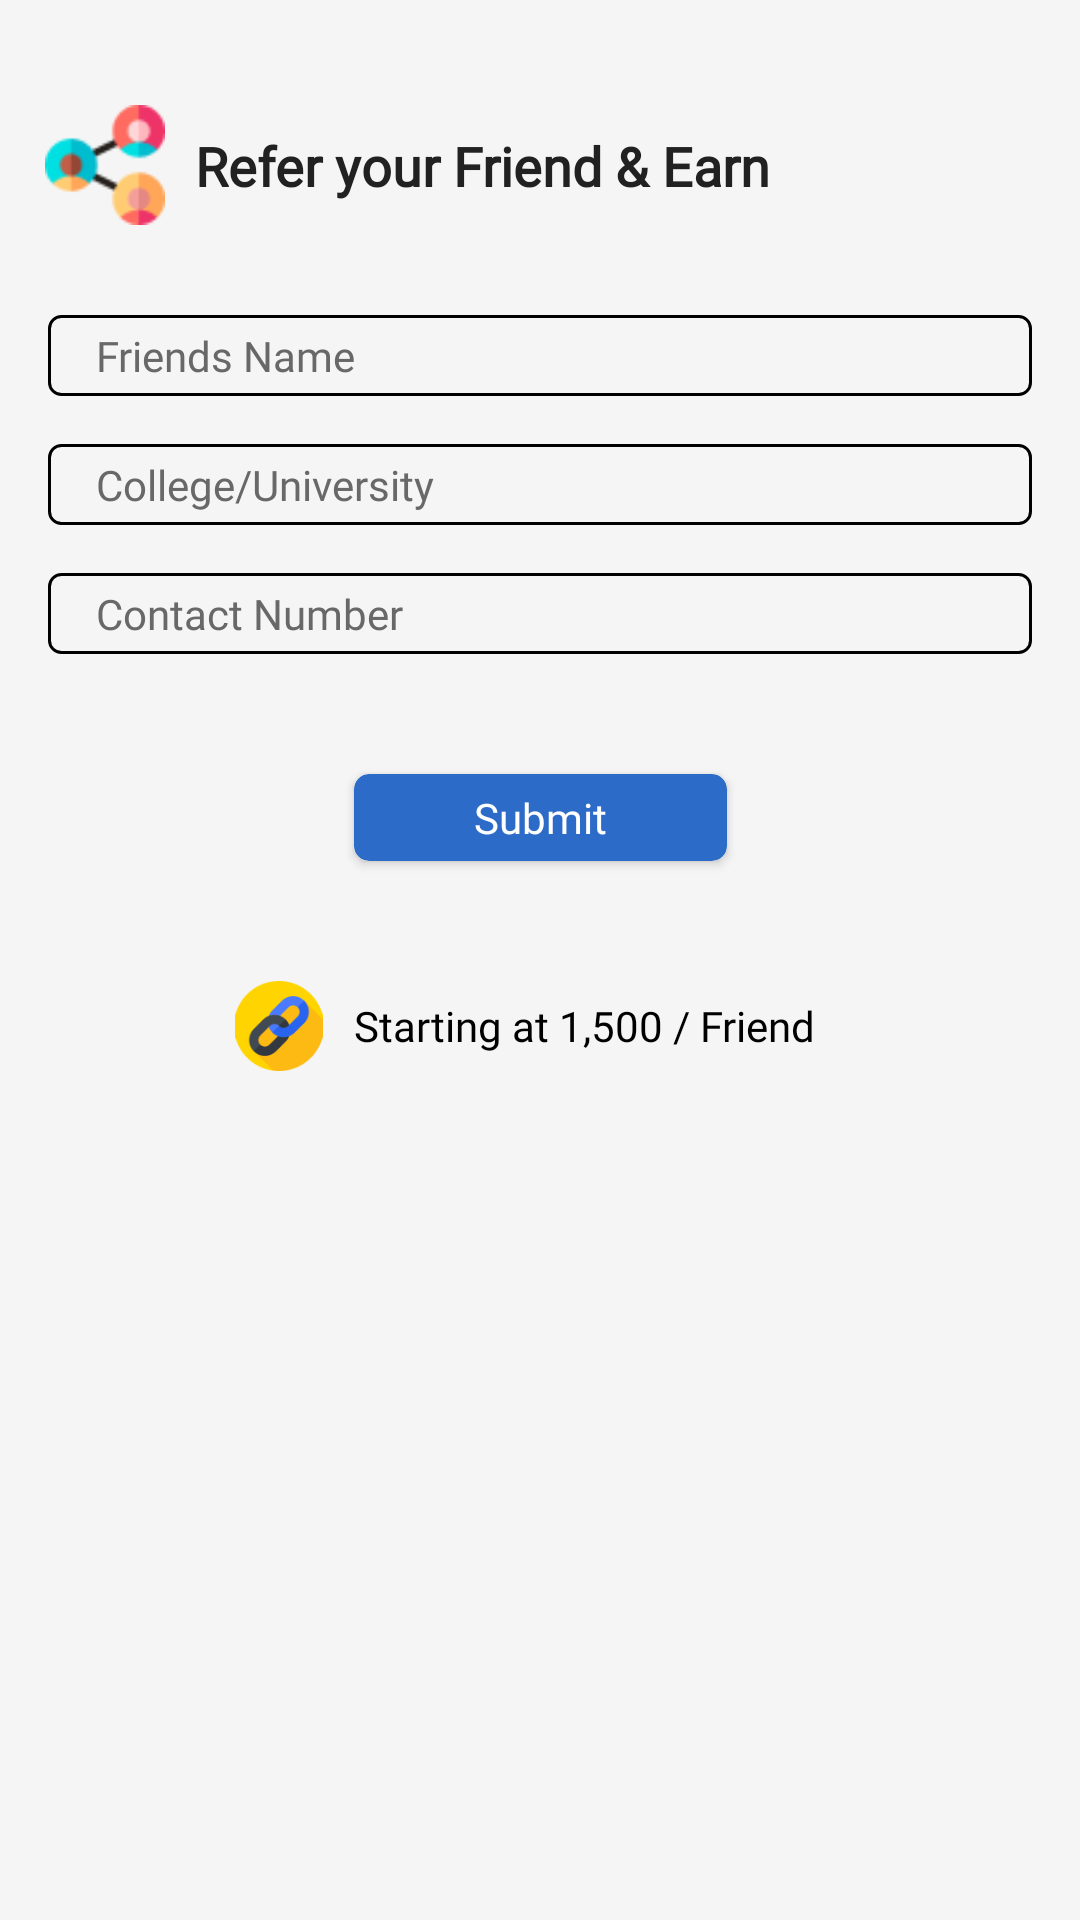

Named icons in this screenshot (1080*1920) and their bounding boxes, bbox(x1, y1, x2, y2):
refer link: bbox(235, 981, 323, 1071)
